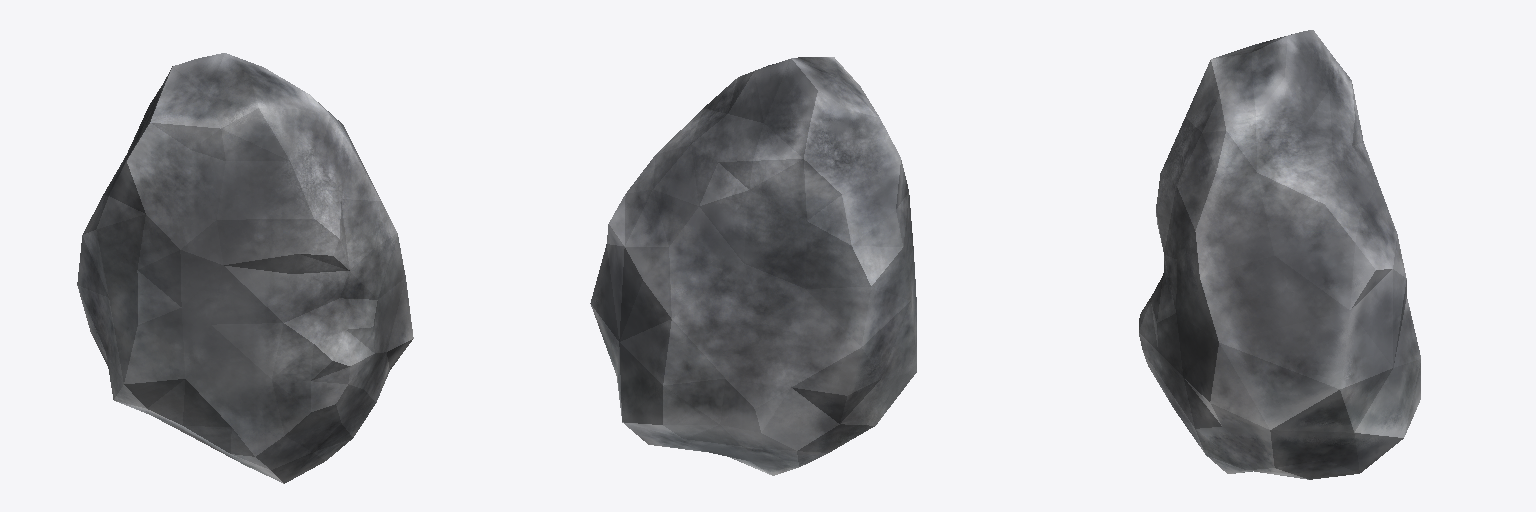
The picture shows the model from 3 angles: view 1: azimuth 30°, elevation 25°; view 2: azimuth 150°, elevation 25°; view 3: azimuth 270°, elevation 25°; orthographic projection.
Parts seen in each view (by area): view 1: rock_4_low_Cube.001; view 2: rock_4_low_Cube.001; view 3: rock_4_low_Cube.001.
Part boxes in pixels (bbox=[...]): rock_4_low_Cube.001: bbox=[77, 53, 413, 483]; rock_4_low_Cube.001: bbox=[590, 57, 916, 475]; rock_4_low_Cube.001: bbox=[1139, 30, 1420, 479].
Bounding box in the file's own units: 4.22 × 5.66 × 3.51.
Materials: 1 (1 with a texture image).